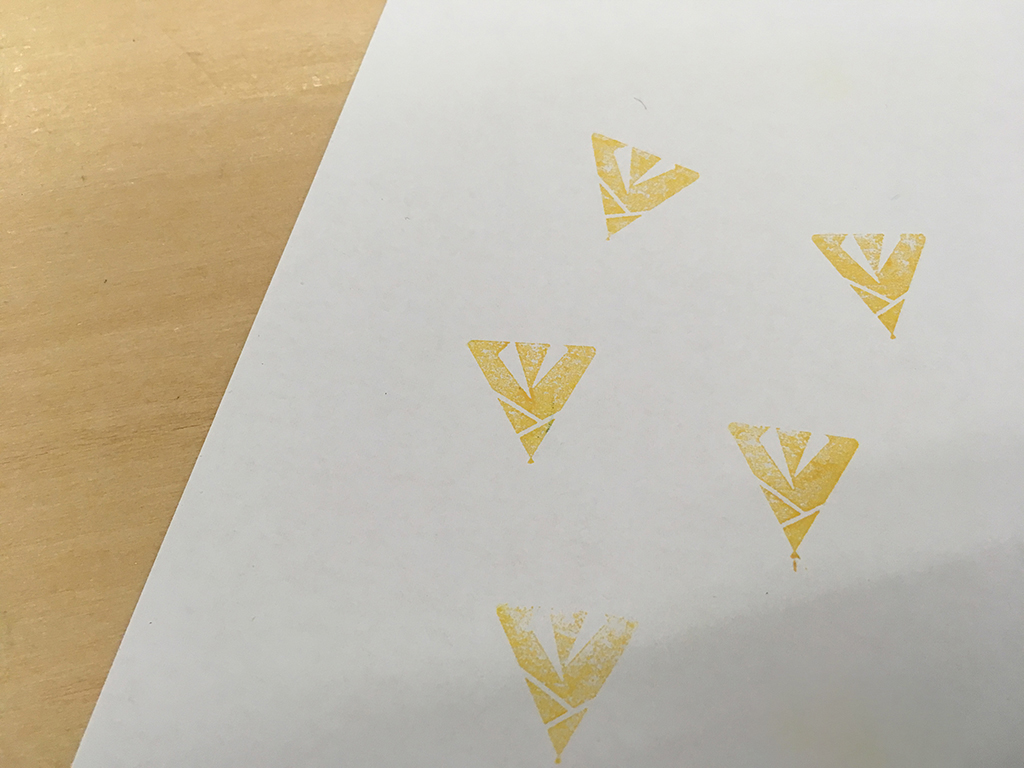tent: (494, 598, 644, 768), (720, 413, 866, 582), (461, 336, 600, 476), (801, 225, 936, 342), (587, 122, 706, 244)
